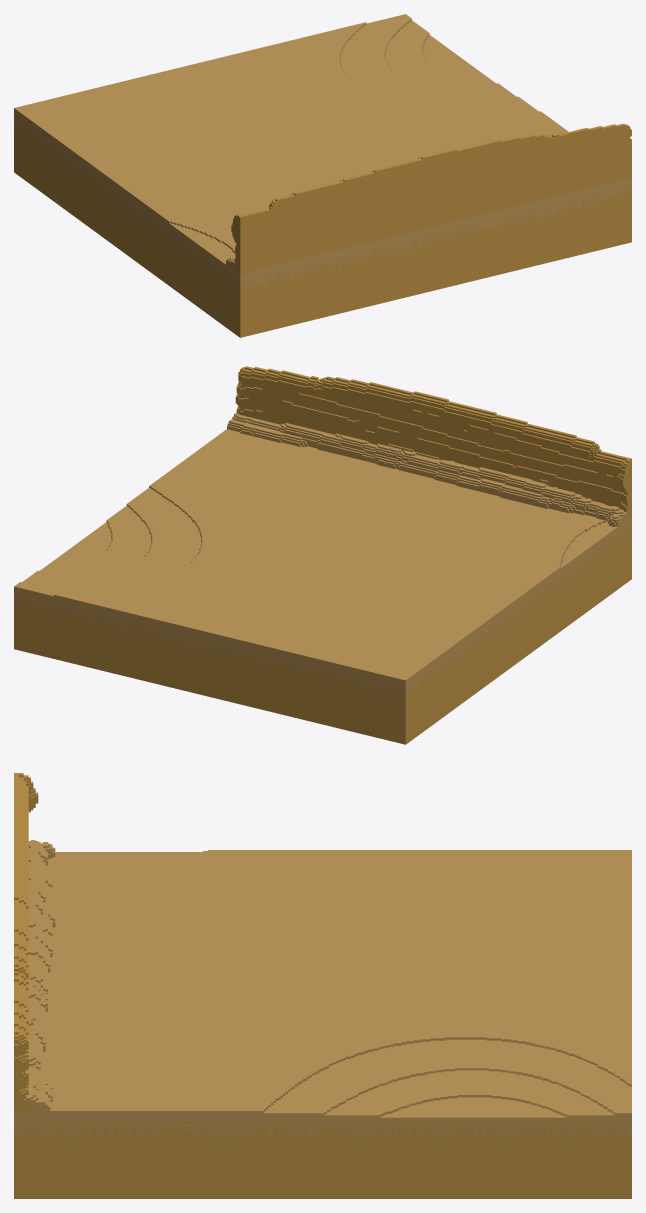
The model's file is Marte-12.obj.
The picture shows the model from 3 angles, top to bottom: view 1: azimuth 30°, elevation 25°; view 2: azimuth 150°, elevation 25°; view 3: azimuth 270°, elevation 25°; orthographic projection. The views are drawn at different scales.
Bounding box in the file's own units: 25.5 × 8.4 × 25.5.
1 material, 1 textured.
